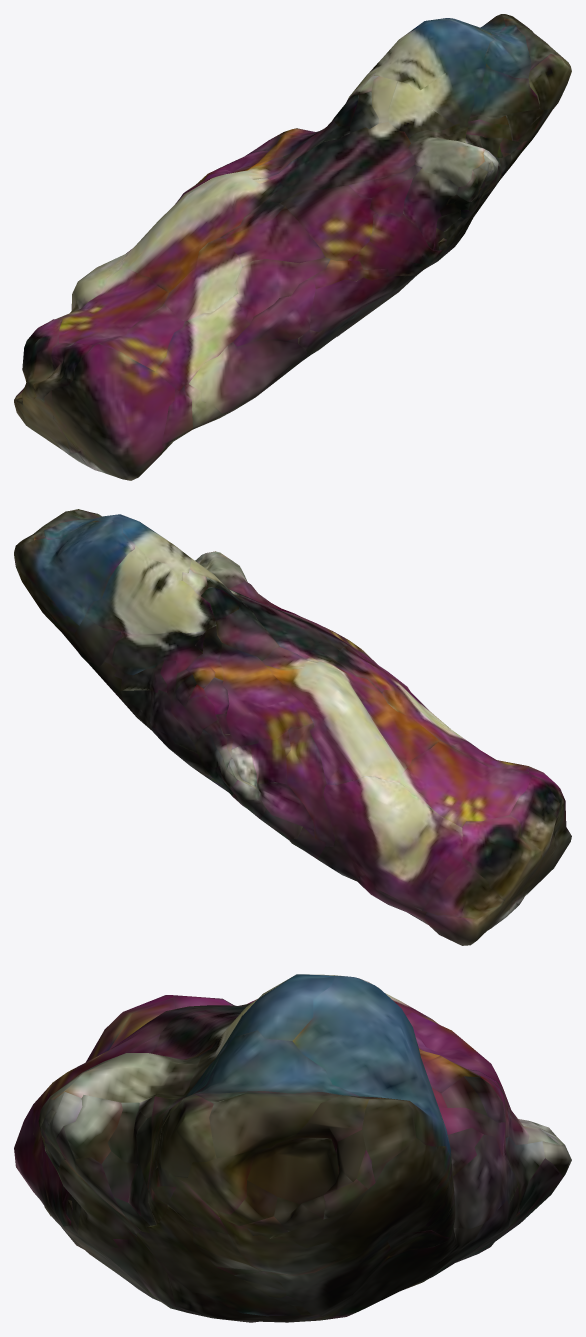
Rendered from hall.glb.
The picture shows the model from 3 angles, top to bottom: view 1: azimuth 30°, elevation 25°; view 2: azimuth 150°, elevation 25°; view 3: azimuth 270°, elevation 25°; orthographic projection. The views are drawn at different scales.
Size of the model in its own units: 0.6714 by 0.4087 by 0.3228.
1 material, 1 textured.
